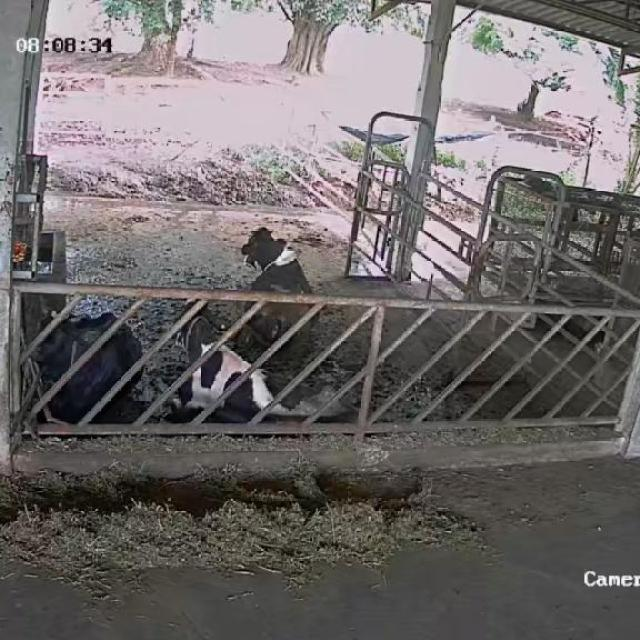lying down: (166, 303, 353, 426), (17, 304, 146, 424), (238, 225, 325, 351)
